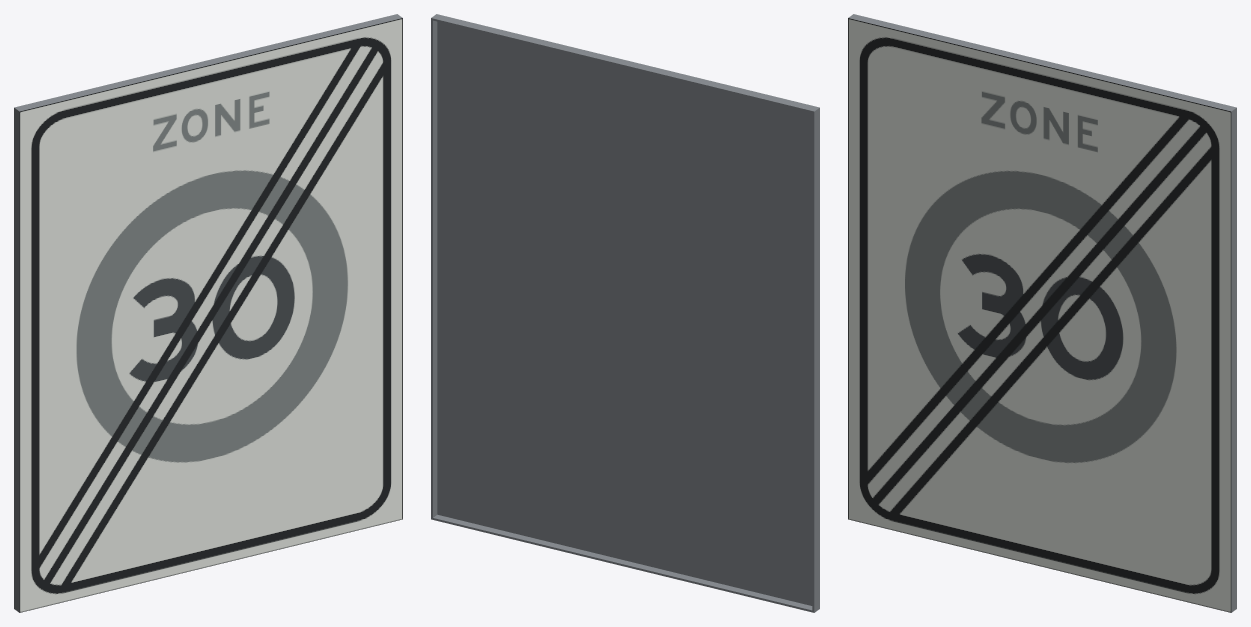
The picture shows the model from 3 angles, left to right: view 1: azimuth 30°, elevation 25°; view 2: azimuth 150°, elevation 25°; view 3: azimuth 330°, elevation 25°; orthographic projection.
Visible parts, largest first — view 1: A2_30-ZE; view 2: A2_30-ZE; view 3: A2_30-ZE.
Part boxes in pixels (x1,y1,x2,y2): A2_30-ZE: (14, 14, 402, 612); A2_30-ZE: (431, 14, 819, 612); A2_30-ZE: (848, 14, 1236, 612).
Size of the model in its own units: 0.6 by 0.015 by 0.75.
2 materials, 1 textured.
